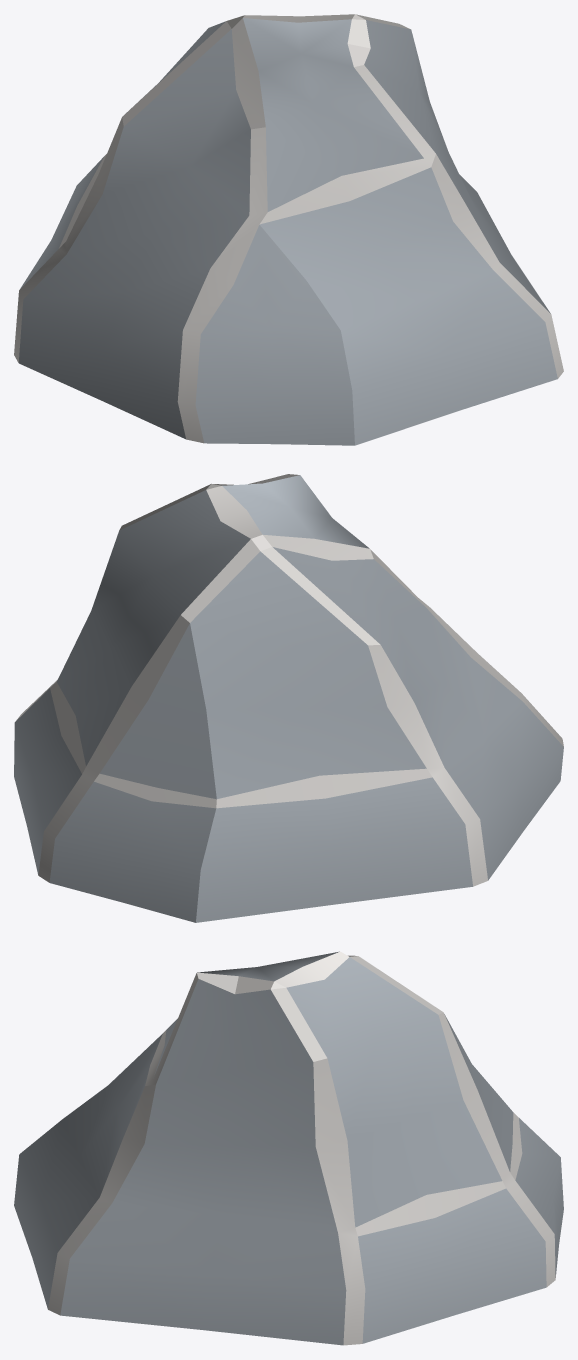
The model's file is IceMechSmallClump1.fbx.
3 views of the same model, one above another, from view 1: azimuth 30°, elevation 25°; view 2: azimuth 150°, elevation 25°; view 3: azimuth 270°, elevation 25° (orthographic). The views are drawn at different scales.
Visible parts, largest first — view 1: IceMechSmallClump1; view 2: IceMechSmallClump1; view 3: IceMechSmallClump1.
Part boxes in pixels (left/top/right/bottom): IceMechSmallClump1: left=14, top=14, right=563, bottom=445; IceMechSmallClump1: left=14, top=474, right=563, bottom=922; IceMechSmallClump1: left=14, top=951, right=563, bottom=1345.
Size of the model in its own units: 296 by 180 by 314.
